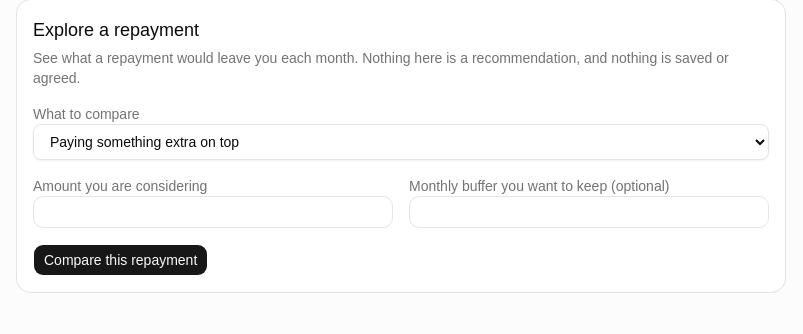
Test case: RepaymentExplorer › surfaces a rejected amount against its own field
Type "-5" into the field labelled "Amount you are considering" at (213, 212), box [33,196,393,228]
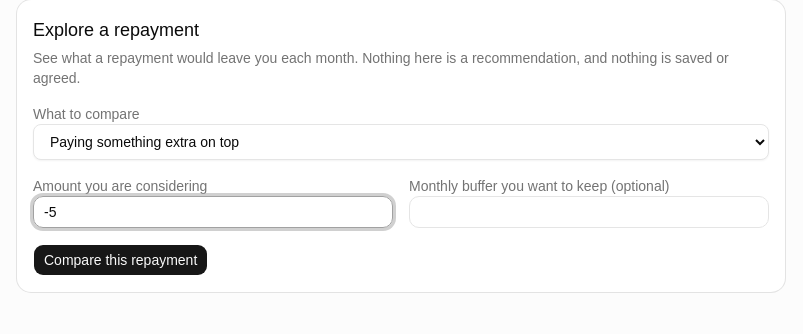
Click the button "Compare this repayment" at (121, 260), box [33,244,208,276]
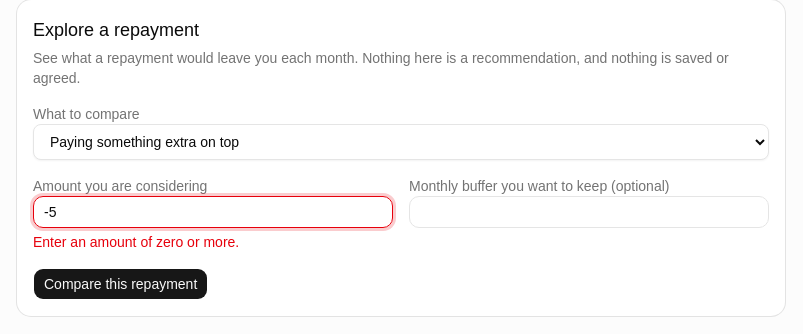
Check: the text "Enter an amount of zero or more." is shown, box [33,234,239,250]
